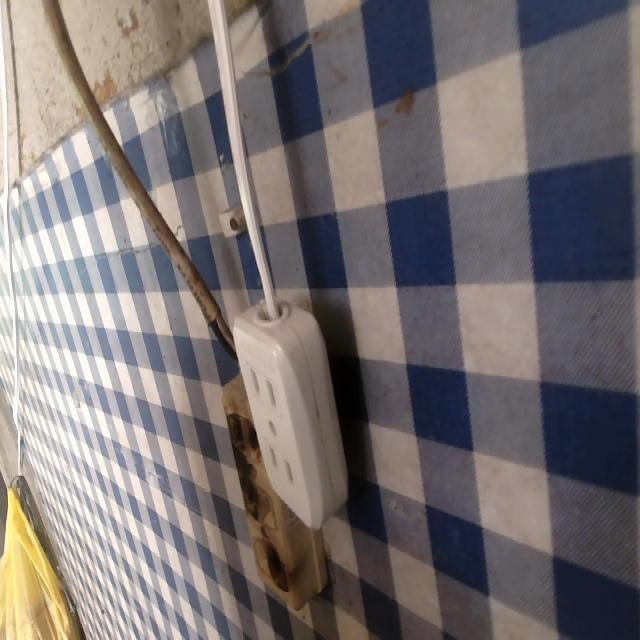-: (259, 539, 299, 596), (216, 406, 258, 458), (230, 475, 263, 524)
